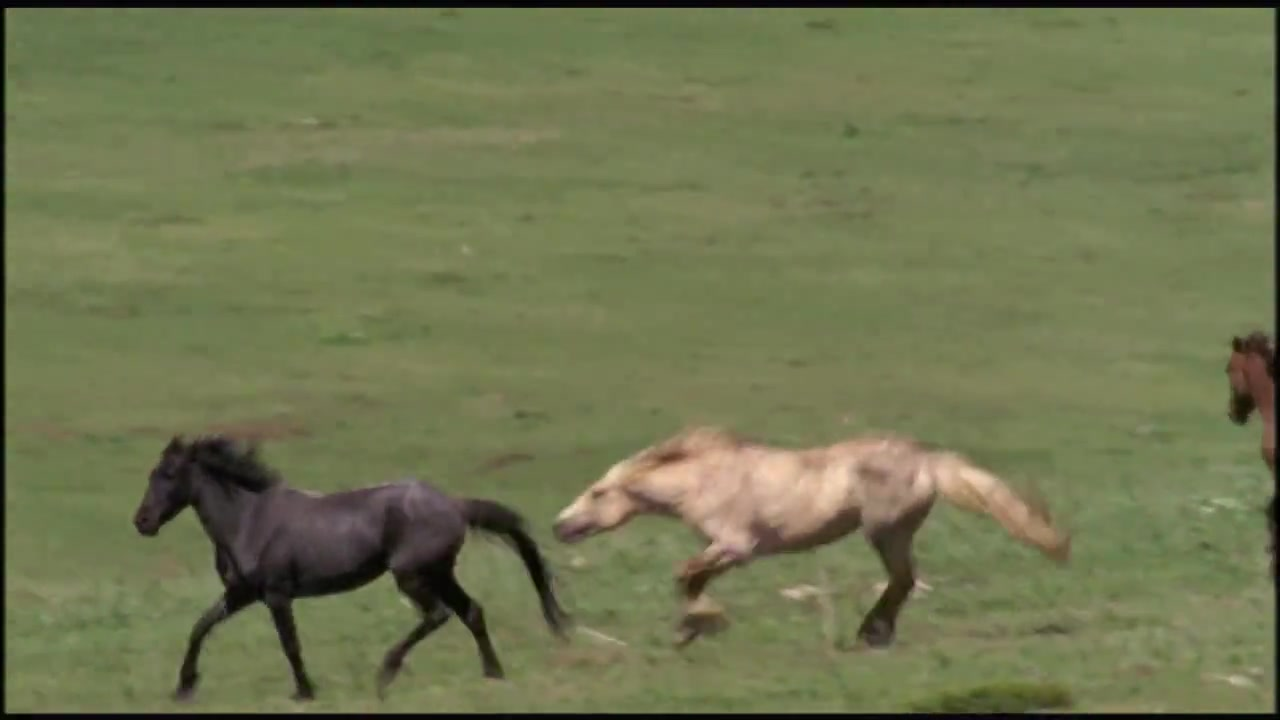horse: (134, 434, 575, 704)
